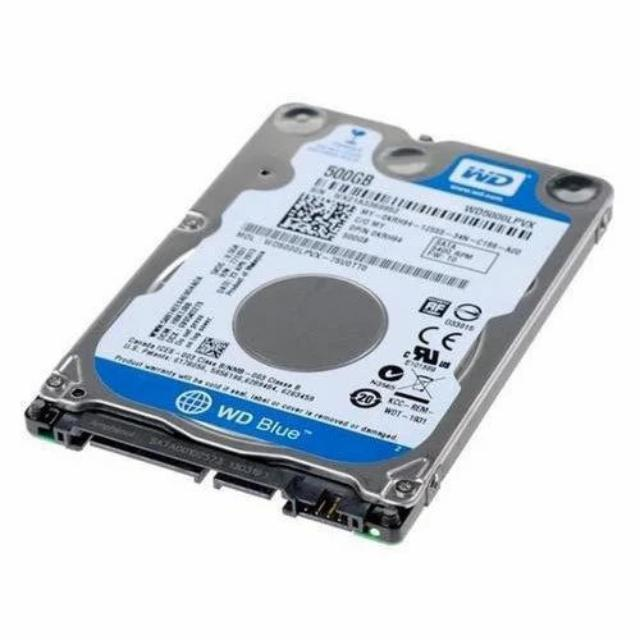HDD: (23, 102, 616, 547)
